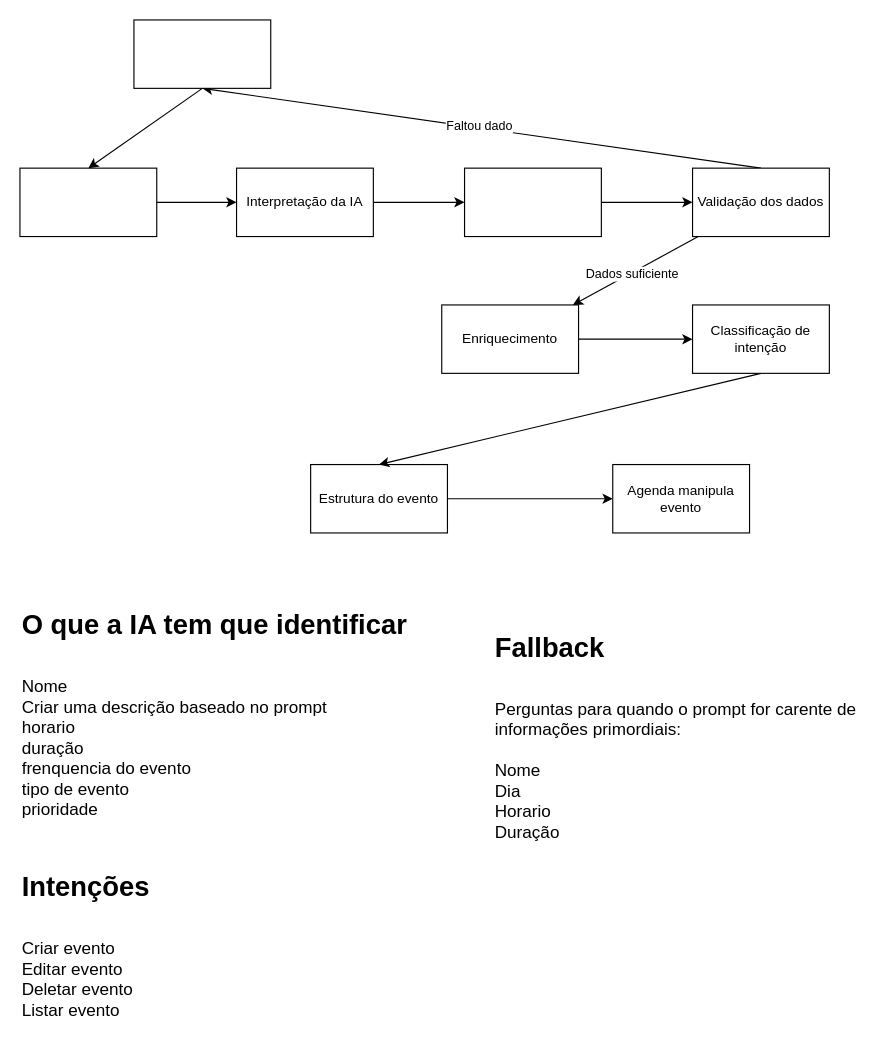
Some shapes in this 889 by 1047 pixel diagram are drawn without their labels. Here are the shapes that lost their labels. From the top down, the centre of each, then its label:
the point at 202,53: Fallback
the point at 88,202: Prompt do usuario
the point at 532,202: Extração de entidades
